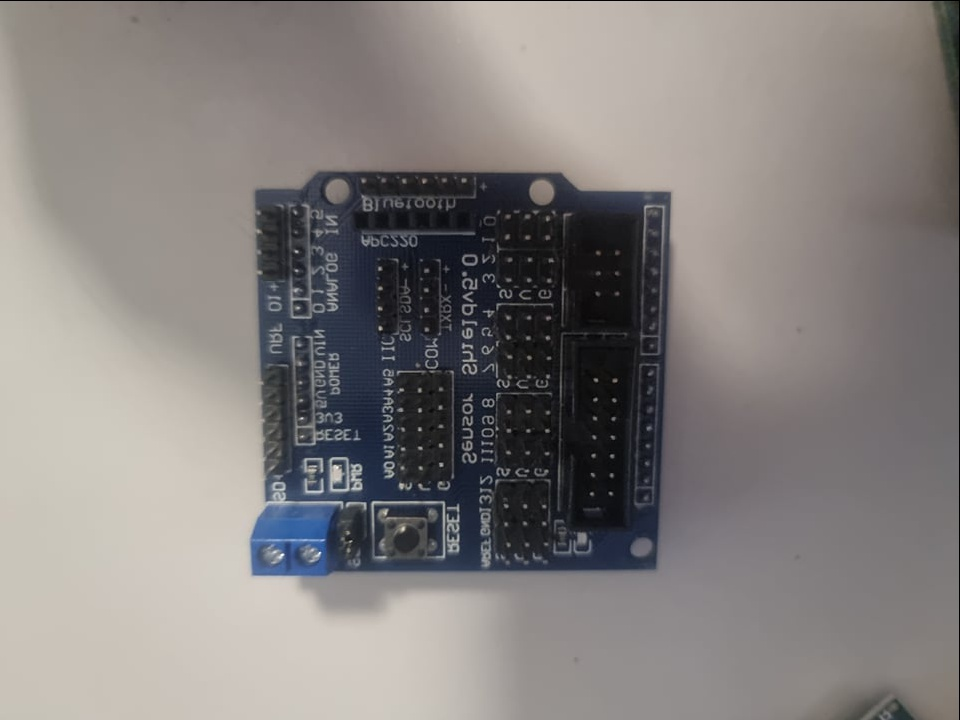5V EXPANSION: (249, 169, 680, 575)
